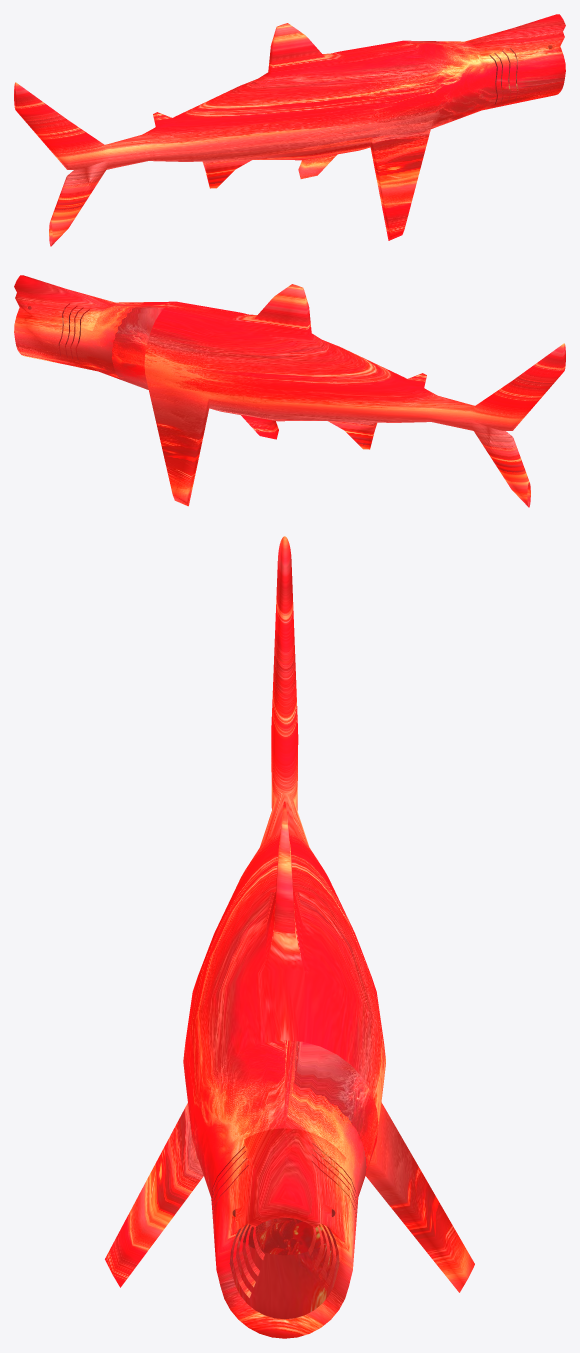
The model's file is Basking Shark.glb.
The picture shows the model from 3 angles, top to bottom: view 1: azimuth 30°, elevation 25°; view 2: azimuth 150°, elevation 25°; view 3: azimuth 270°, elevation 25°; orthographic projection. The views are drawn at different scales.
Parts seen in each view (by area): view 1: SharkBody, SharkHead; view 2: SharkBody, SharkHead; view 3: SharkBody, SharkHead.
Part boxes in pixels (box(x1,y1,x2,y2)): SharkBody: box(14, 23, 502, 246); SharkHead: box(465, 14, 565, 110); SharkBody: box(76, 284, 565, 507); SharkHead: box(14, 275, 114, 371); SharkBody: box(105, 536, 474, 1292); SharkHead: box(211, 1128, 357, 1338).
Bounding box in the file's own units: 7.36 × 2.73 × 2.17.
2 materials, 1 textured.
